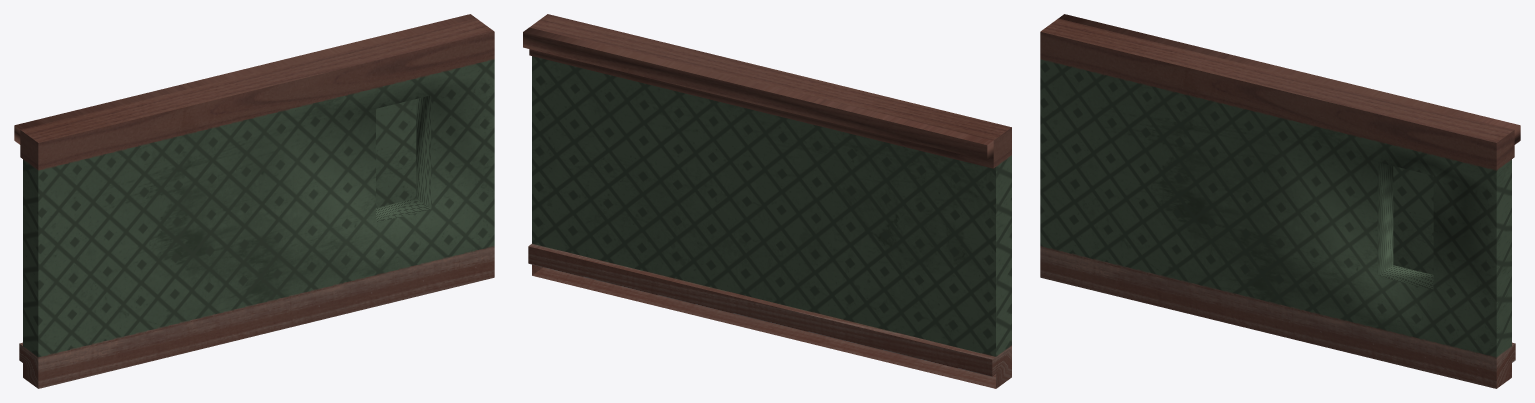
File: ParedeJanela.fbx
The picture shows the model from 3 angles, left to right: view 1: azimuth 30°, elevation 25°; view 2: azimuth 150°, elevation 25°; view 3: azimuth 330°, elevation 25°; orthographic projection.
Visible parts, largest first — view 1: Cube; view 2: Cube; view 3: Cube.
Boxes of the visible parts, x1=… form: Cube: x1=14, y1=14, x2=494, y2=388; Cube: x1=523, y1=14, x2=1011, y2=388; Cube: x1=1040, y1=14, x2=1520, y2=388.
Bounding box in the file's own units: 977 × 503 × 89.76.
